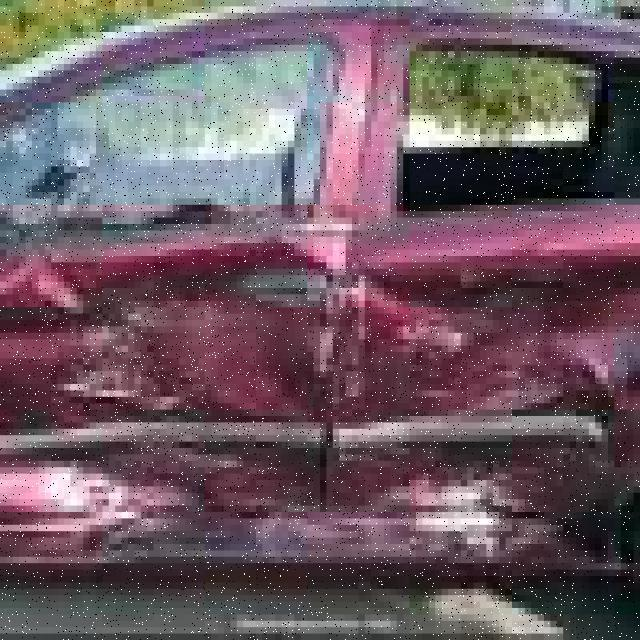doorouter-dent: (0, 236, 339, 570), (352, 230, 634, 570)
pillar-dent: (314, 32, 416, 230)
